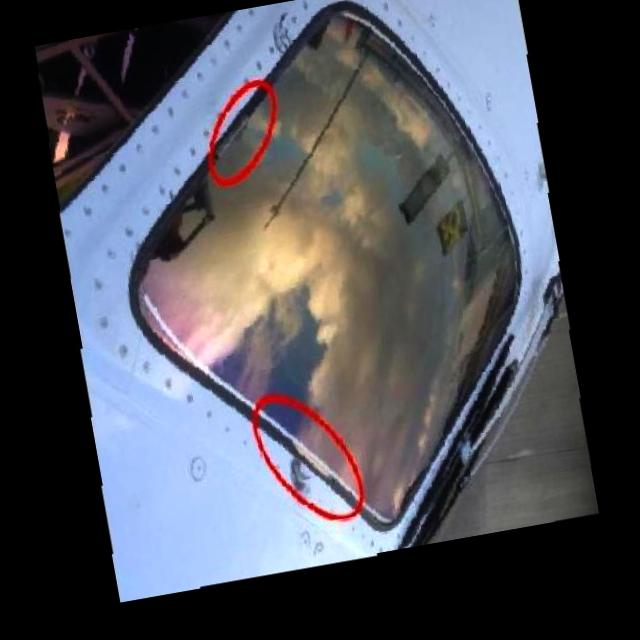crack: (268, 8, 294, 53)
